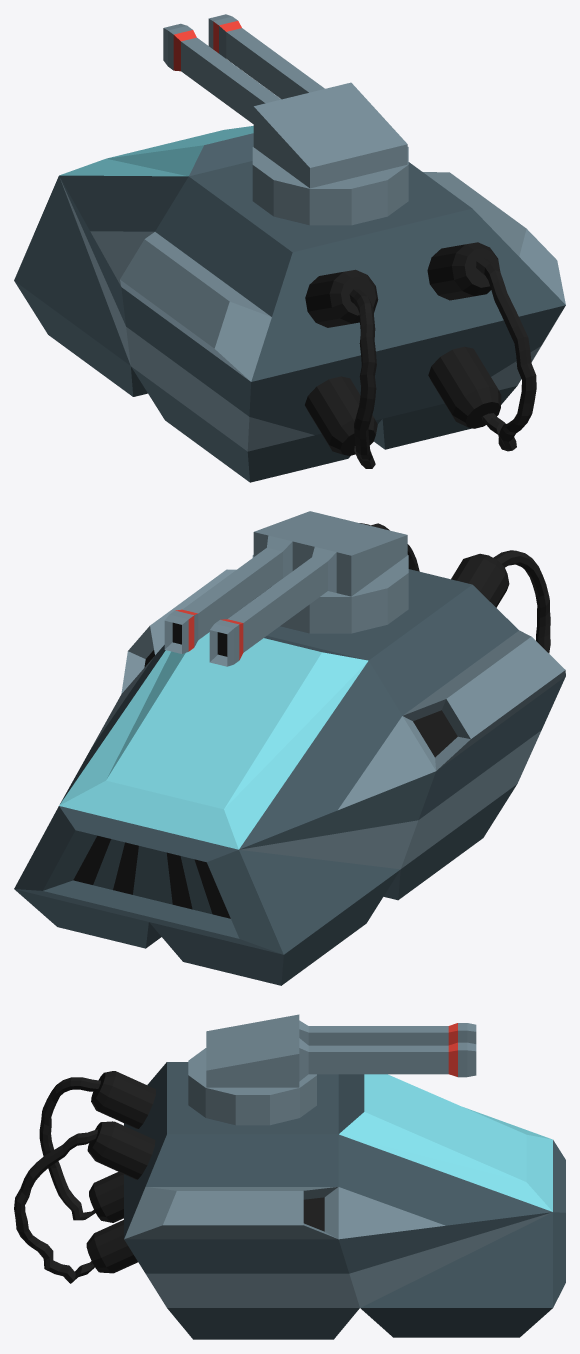
The picture shows the model from 3 angles, top to bottom: view 1: azimuth 30°, elevation 25°; view 2: azimuth 150°, elevation 25°; view 3: azimuth 270°, elevation 25°; orthographic projection. The views are drawn at different scales.
Parts seen in each view (by area): view 1: mesh_1538145713, mesh_124758516, mesh_164901870, mesh_1720164203, group_2122038685, mesh_1426099263, mesh_126274961, mesh_129962282, group_714026519; view 2: mesh_1538145713, mesh_124758516, mesh_164901870, mesh_129962282, group_714026519; view 3: mesh_1538145713, mesh_124758516, mesh_164901870, group_2122038685, mesh_126274961, mesh_129962282, group_714026519, mesh_1720164203, mesh_1426099263.
Boxes of the visible parts, x1,y1,x2,y2 form: mesh_1538145713: (14, 126, 565, 482); mesh_124758516: (163, 14, 407, 188); mesh_164901870: (252, 147, 408, 225); mesh_1720164203: (428, 346, 501, 428); group_2122038685: (476, 257, 536, 451); mesh_1426099263: (305, 376, 377, 455); mesh_126274961: (427, 242, 500, 300); mesh_129962282: (305, 269, 378, 327); group_714026519: (349, 289, 376, 468); mesh_1538145713: (14, 569, 565, 985); mesh_124758516: (164, 511, 407, 666); mesh_164901870: (252, 555, 408, 633); mesh_129962282: (451, 553, 509, 607); group_714026519: (493, 550, 550, 653); mesh_1538145713: (124, 1062, 565, 1339); mesh_124758516: (206, 1014, 476, 1087); mesh_164901870: (188, 1048, 316, 1125); group_2122038685: (14, 1129, 98, 1283); mesh_126274961: (87, 1121, 155, 1179); mesh_129962282: (91, 1071, 156, 1128); group_714026519: (39, 1077, 100, 1220); mesh_1720164203: (86, 1220, 137, 1273); mesh_1426099263: (89, 1172, 123, 1222).
Bounding box in the file's own units: 51.53 × 44.3 × 85.77.
